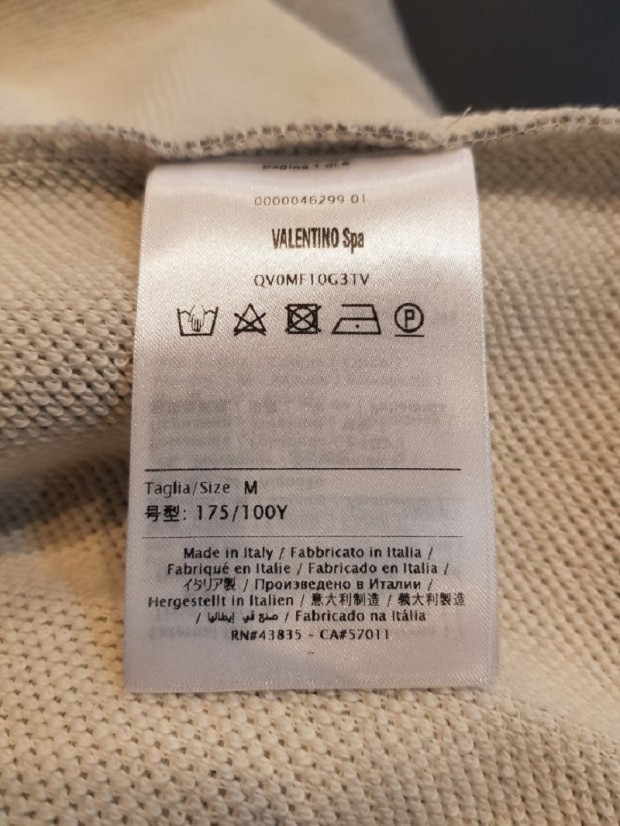ER_dry_clean_chemical_mild: (388, 295, 429, 344)
ER_hand_wash: (175, 301, 223, 345)
ER_iron_low_temp: (332, 294, 385, 343)
ER_no_bleach: (228, 299, 271, 344)
ER_no_tumble_dry: (277, 296, 326, 341)
